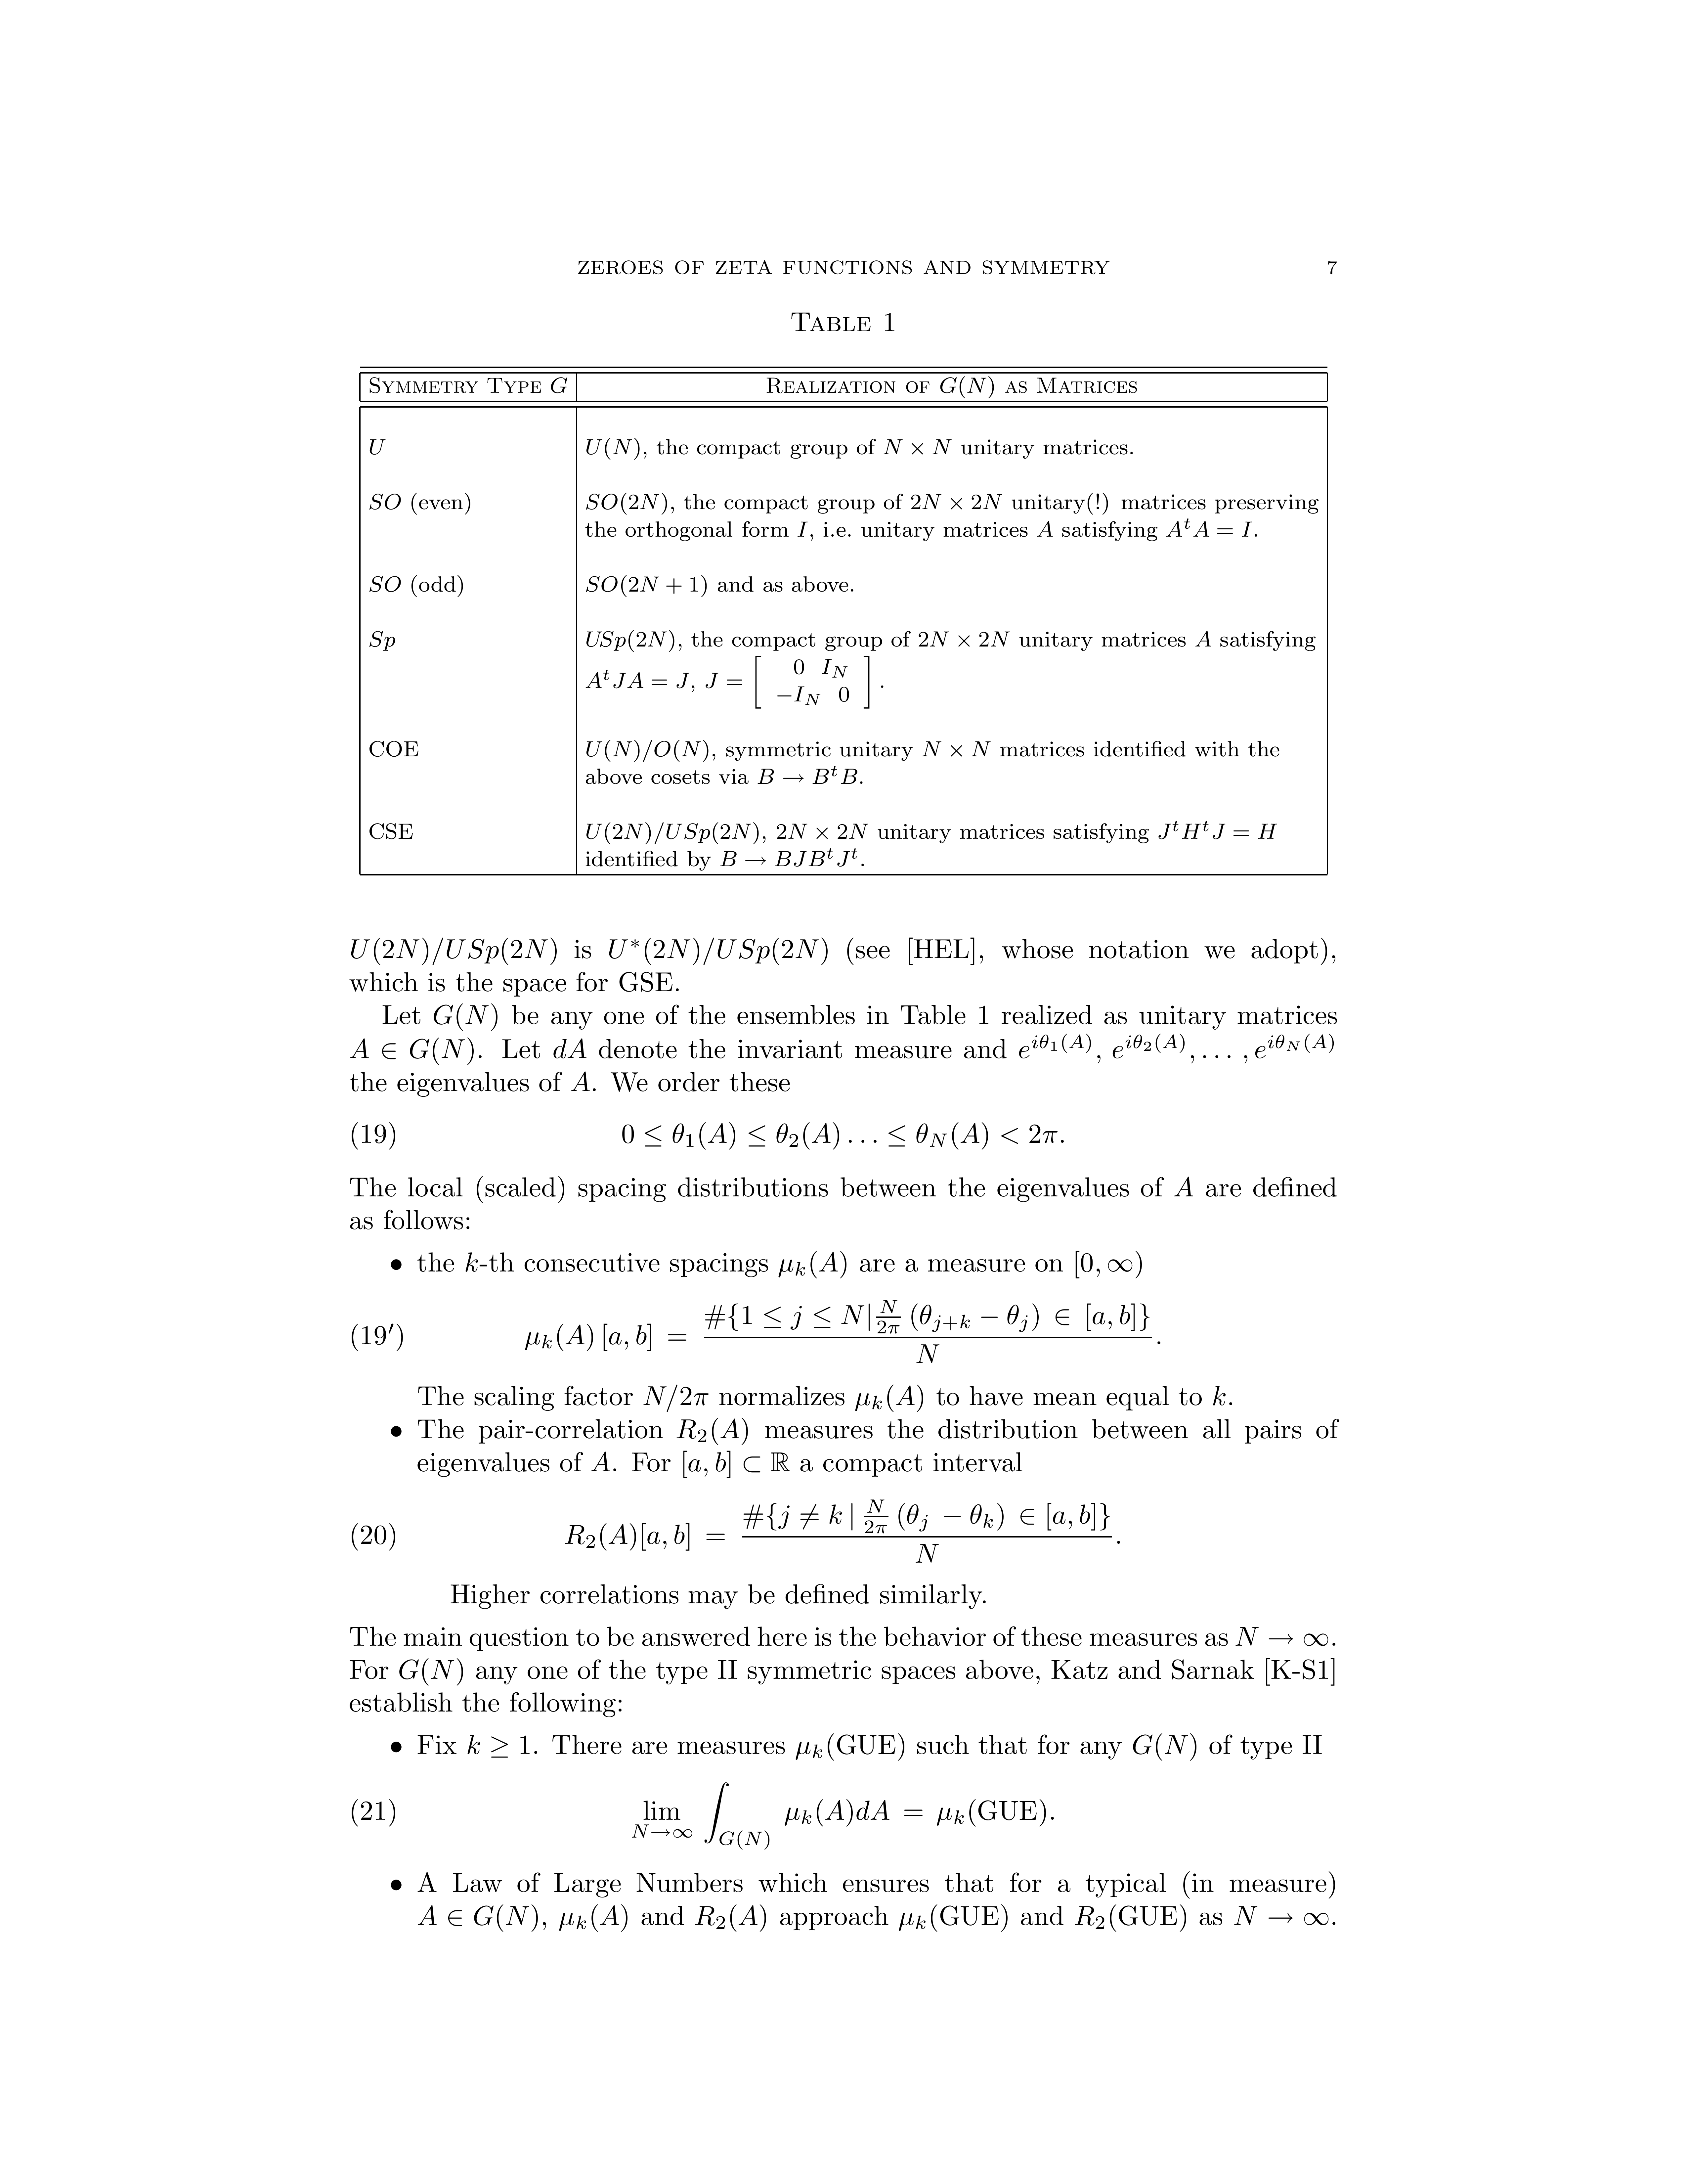maths: (525, 1299, 1152, 1363), (565, 1500, 1111, 1562), (633, 1782, 964, 1849), (622, 1122, 1058, 1149), (610, 938, 828, 964), (351, 938, 556, 964), (418, 1904, 546, 1932), (349, 1037, 473, 1065), (684, 1450, 789, 1478), (1019, 1034, 1100, 1064), (1113, 1034, 1194, 1064), (695, 1904, 766, 1932), (1255, 1034, 1333, 1058), (560, 1904, 627, 1932), (677, 1418, 748, 1445), (1233, 1906, 1327, 1925), (399, 1657, 463, 1686), (778, 1252, 845, 1278), (856, 1384, 923, 1411), (1076, 1252, 1141, 1278), (643, 1384, 709, 1411), (434, 1003, 498, 1030), (1132, 1734, 1196, 1760), (1235, 1627, 1327, 1645), (468, 1735, 530, 1757), (1074, 1906, 1104, 1929), (553, 1039, 587, 1058), (796, 1741, 822, 1760), (898, 1913, 925, 1930), (1203, 1055, 1248, 1064), (571, 1073, 590, 1090), (1175, 1177, 1193, 1197), (592, 1452, 610, 1471), (466, 1252, 478, 1271), (1214, 1386, 1224, 1406)
